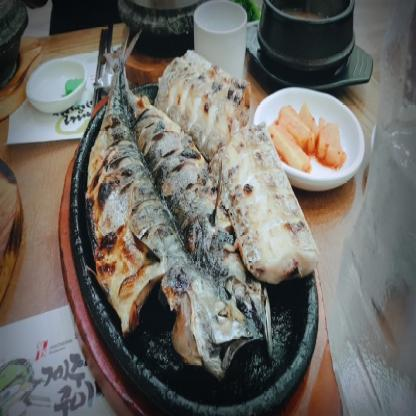Peixe: (83, 39, 179, 380), (128, 122, 243, 392)
